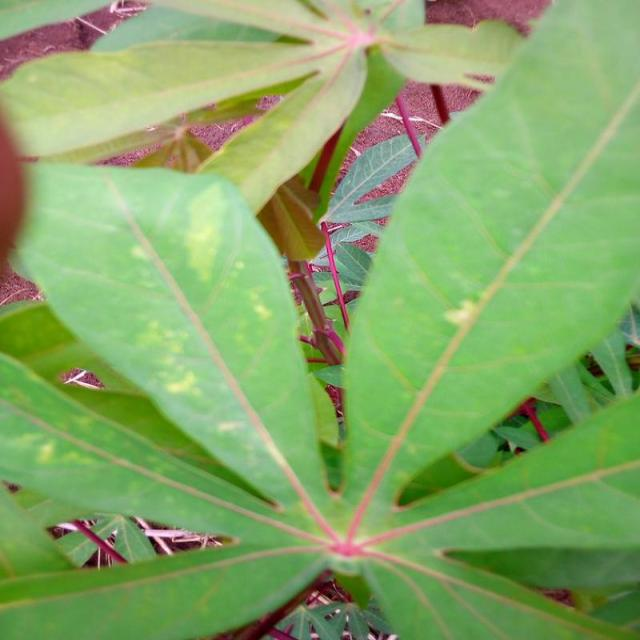cassava leaf: (1, 0, 638, 638), (340, 0, 638, 512), (7, 158, 335, 529)
